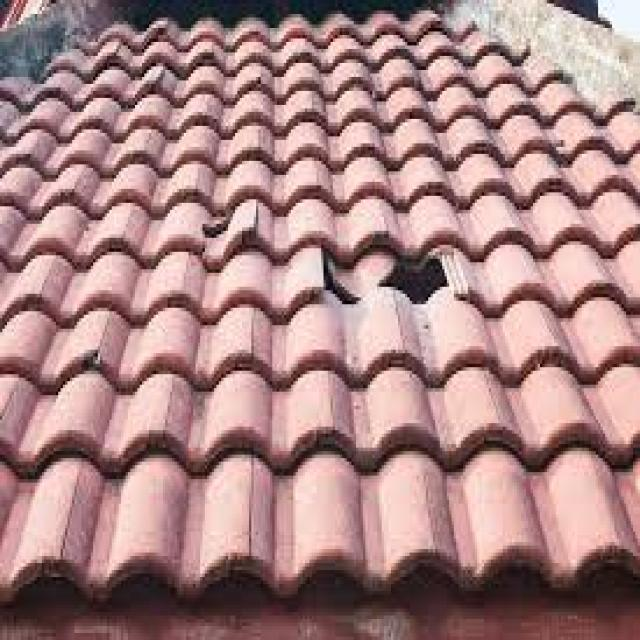damaged_roof: (310, 224, 468, 312), (201, 187, 260, 267)
